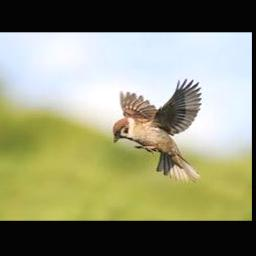Sparrow: (112, 79, 201, 183)
